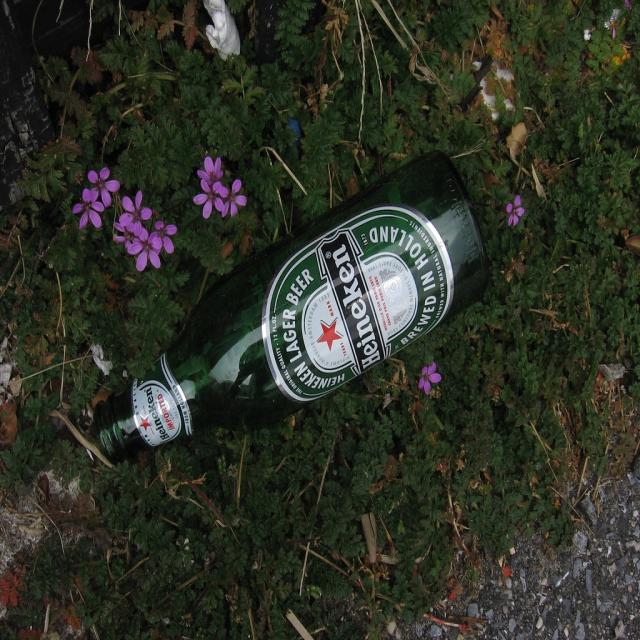heineken: (262, 204, 454, 406)
